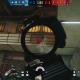Character: (16, 29, 23, 34), (40, 36, 43, 43)
Head: (21, 28, 23, 32), (41, 36, 43, 38)
